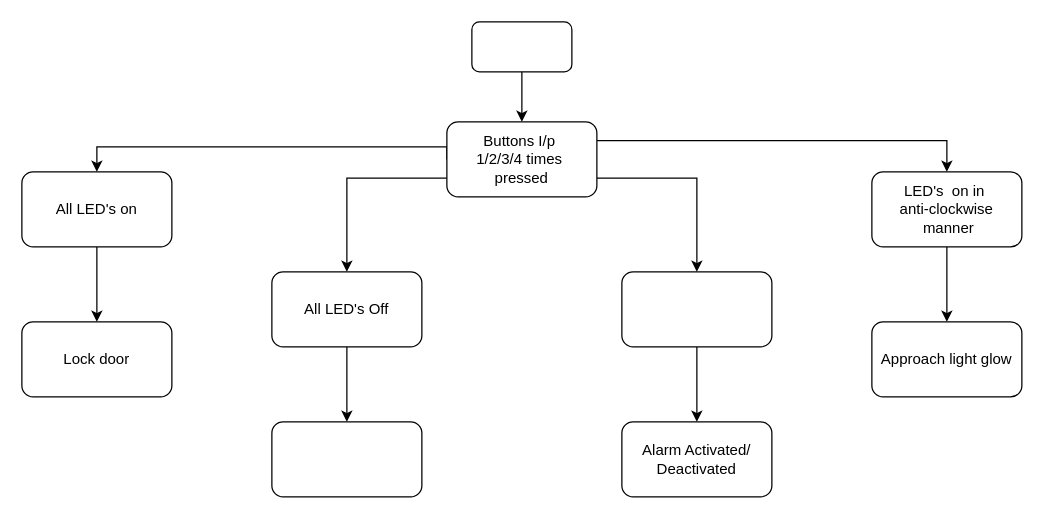
The diagram is 1044 pixels wide and 519 high, and some of its shapes have lost their labels. The shapes that lost their labels are listed below. From the top down, each one's centre as x and y in pixels, then its label:
(x=521, y=46): User
(x=696, y=309): LED's on in clockwise manner
(x=346, y=459): Unlock door
